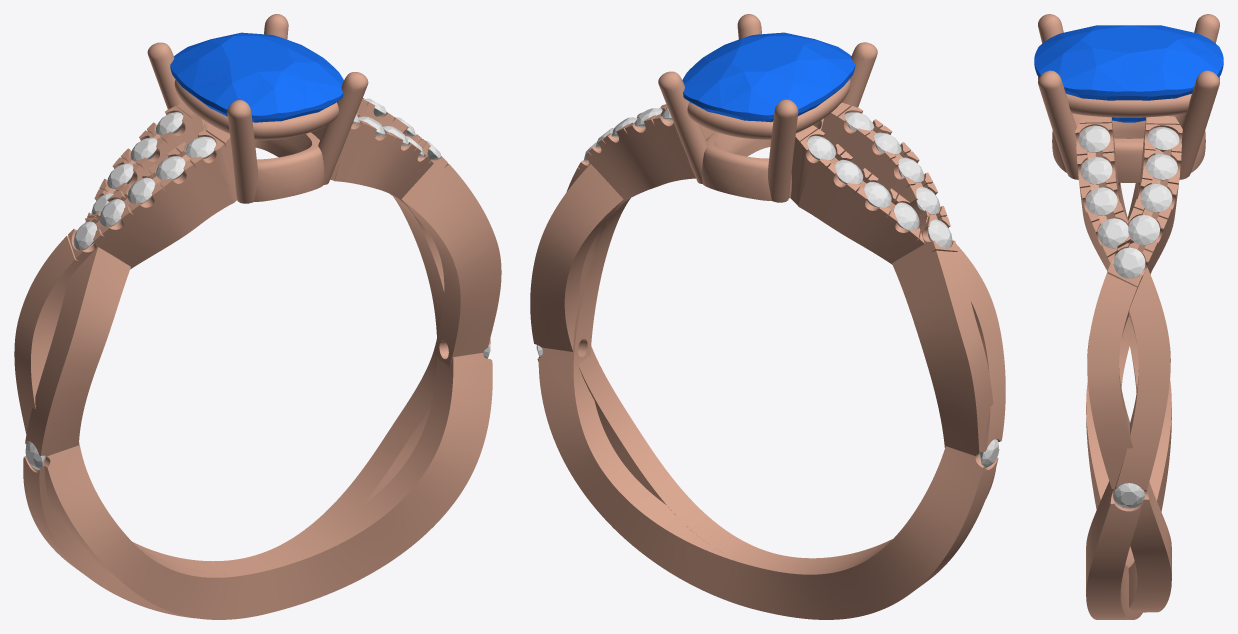
Rendered from bluesapphire-cushion-rosegold-4prong-twist-sidestones.glb.
3 renders of one model, left to right at view 1: azimuth 30°, elevation 25°; view 2: azimuth 150°, elevation 25°; view 3: azimuth 270°, elevation 25°, orthographic.
Visible parts, largest first — view 1: metal, stone; view 2: metal, stone; view 3: metal, stone, side.015, side.016, side.017, side.011, side.012, side.013, side.014, side.018, side.010, side.019.
Part boxes in pixels (<box>): metal: <box>14,14,501,619</box>; stone: <box>170,32,343,122</box>; metal: <box>530,14,1005,619</box>; stone: <box>682,32,855,122</box>; metal: <box>1038,14,1219,619</box>; stone: <box>1034,25,1223,122</box>; side.015: <box>1113,247,1145,278</box>; side.016: <box>1128,215,1159,245</box>; side.017: <box>1140,184,1172,212</box>; side.011: <box>1098,218,1129,248</box>; side.012: <box>1086,187,1117,215</box>; side.013: <box>1080,157,1112,184</box>; side.014: <box>1078,125,1110,152</box>; side.018: <box>1146,154,1177,180</box>; side.010: <box>1113,483,1144,508</box>; side.019: <box>1147,127,1179,150</box>.
Size of the model in its own units: 19.97 by 23.03 by 7.15.
